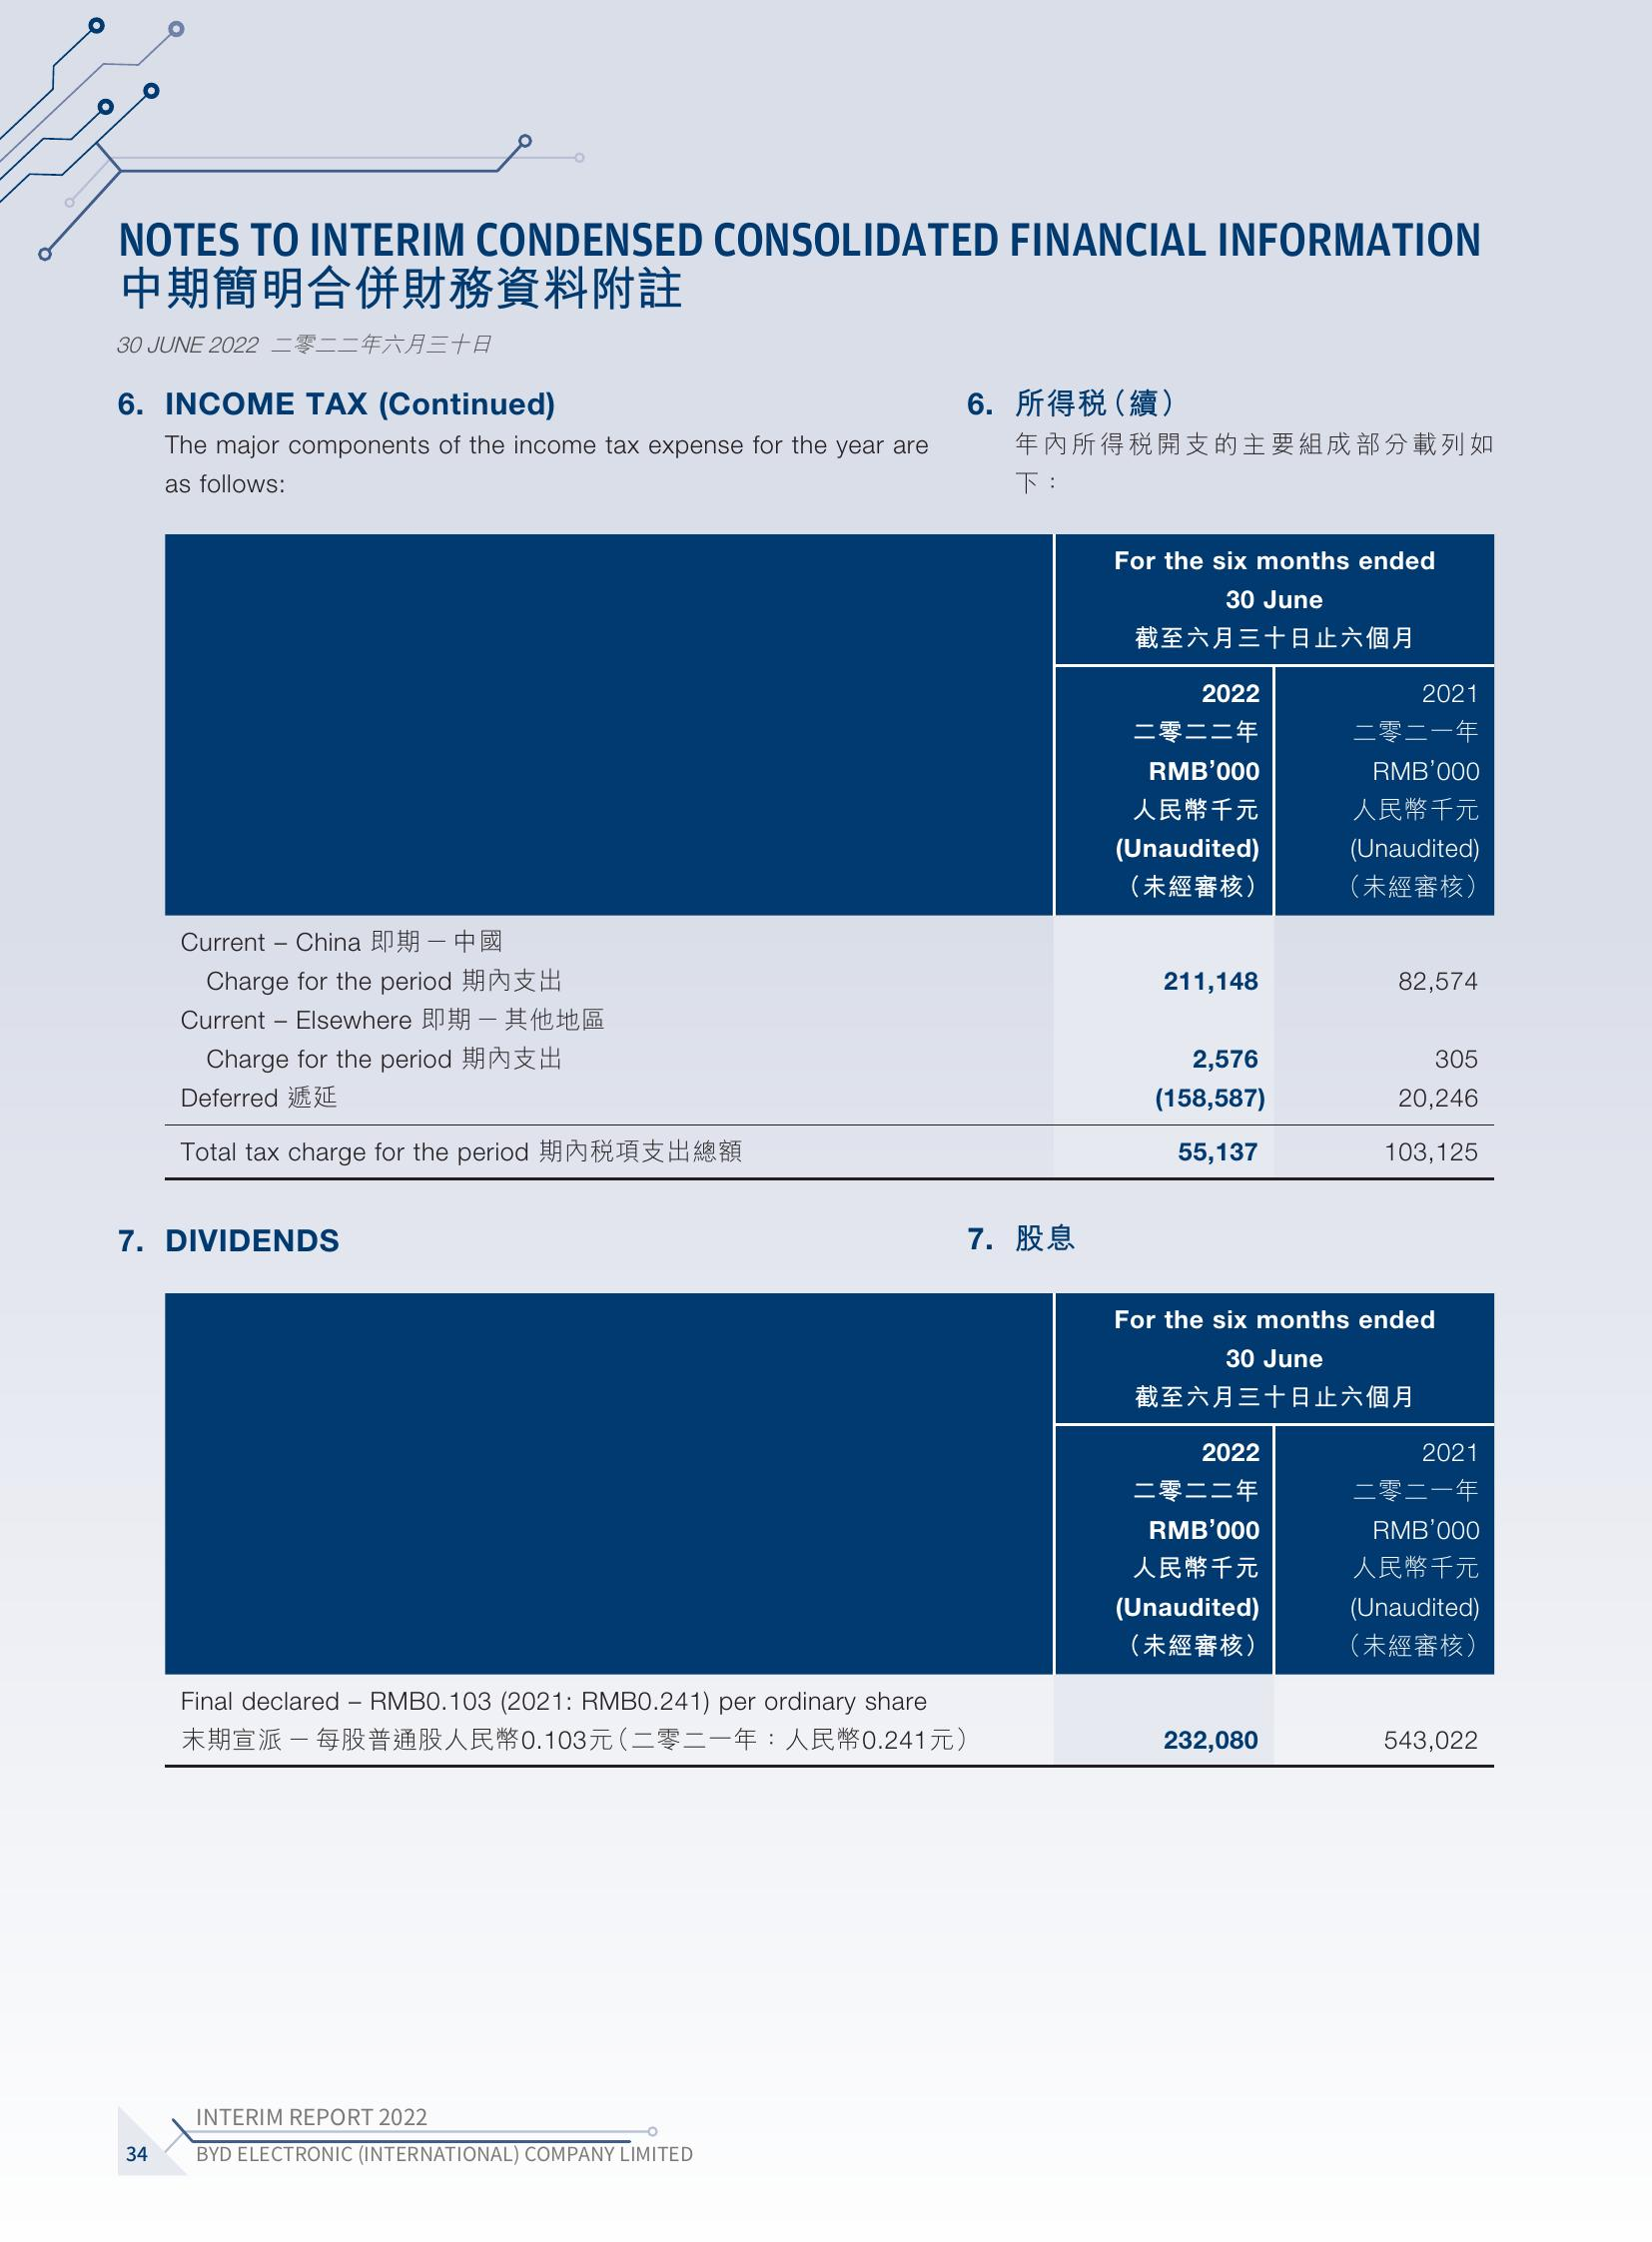Footer: (0, 2098, 1652, 2242)
Header: (0, 0, 1652, 205)
Table: (127, 498, 1516, 1201), (131, 1281, 1534, 1800)
